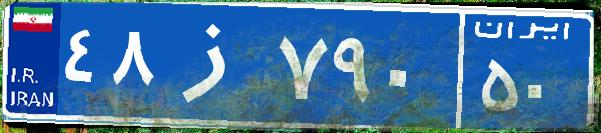0: (385, 28, 445, 110), (525, 38, 570, 115)
4: (57, 26, 110, 107)
5: (475, 38, 525, 113)
7: (273, 28, 330, 110)
8: (110, 28, 158, 105)
9: (330, 28, 385, 110)
ز: (158, 15, 273, 115)
